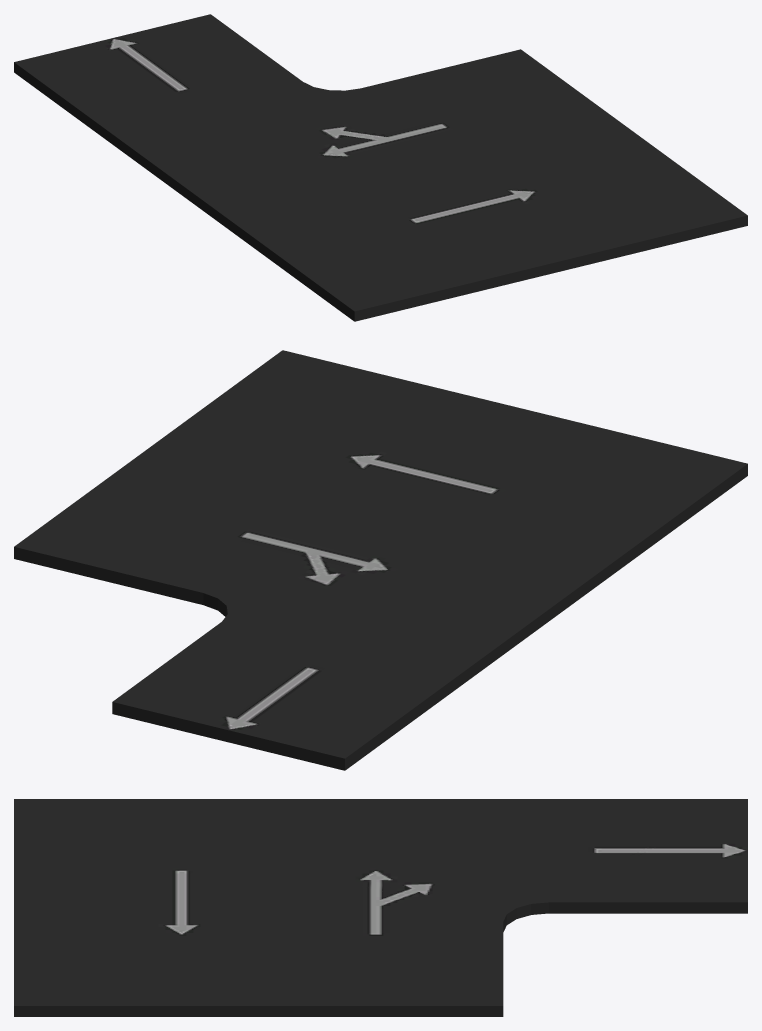
The model's file is SM_Factory_Right_Corner_Road_02.glb.
The picture shows the model from 3 angles, top to bottom: view 1: azimuth 30°, elevation 25°; view 2: azimuth 150°, elevation 25°; view 3: azimuth 270°, elevation 25°; orthographic projection. The views are drawn at different scales.
Parts seen in each view (by area): view 1: SM_Factory_Right_Corner_Road_02; view 2: SM_Factory_Right_Corner_Road_02; view 3: SM_Factory_Right_Corner_Road_02.
Part boxes in pixels (x1,y1,x2,y2): SM_Factory_Right_Corner_Road_02: (14, 14, 747, 321); SM_Factory_Right_Corner_Road_02: (14, 350, 747, 770); SM_Factory_Right_Corner_Road_02: (14, 799, 747, 1016).
Size of the model in its own units: 10 by 0.25 by 15.
1 material, 1 textured.
